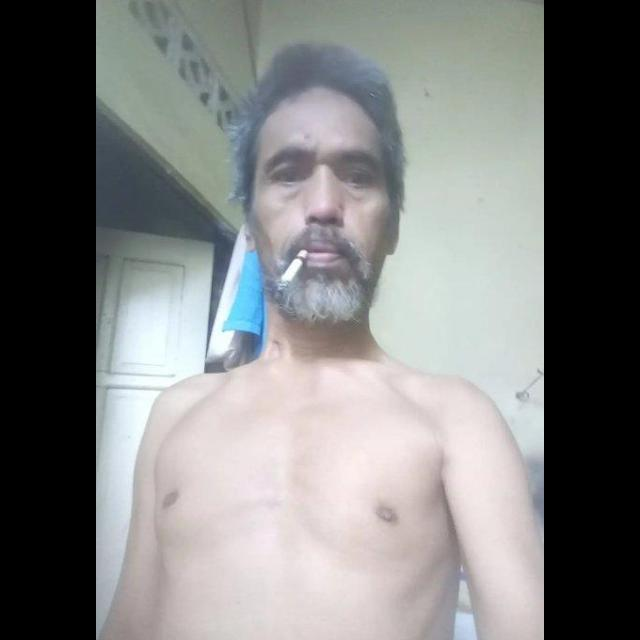rokok: (270, 249, 308, 291)
